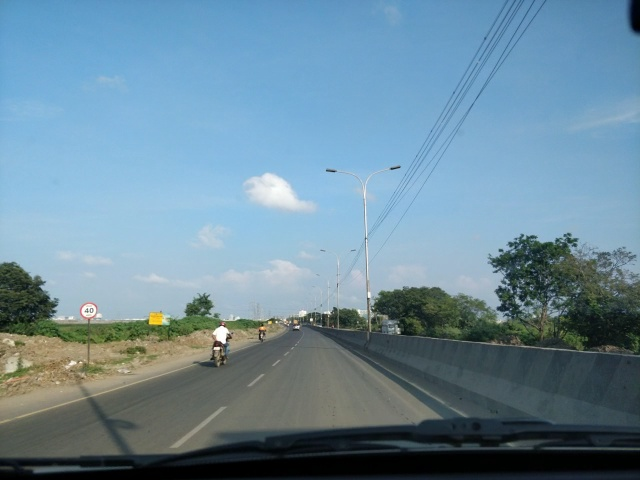car: (292, 323, 302, 333)
motorbike: (207, 317, 232, 367), (257, 321, 268, 344)
truck: (381, 320, 405, 339)
